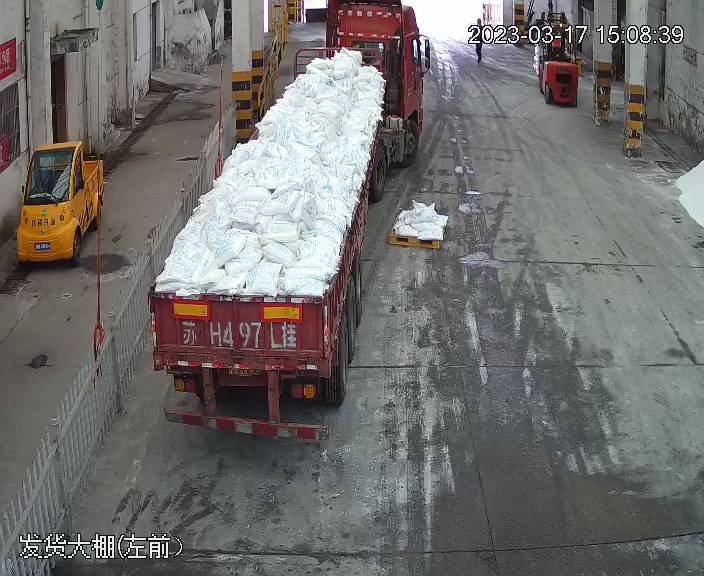truck: (141, 3, 415, 437)
